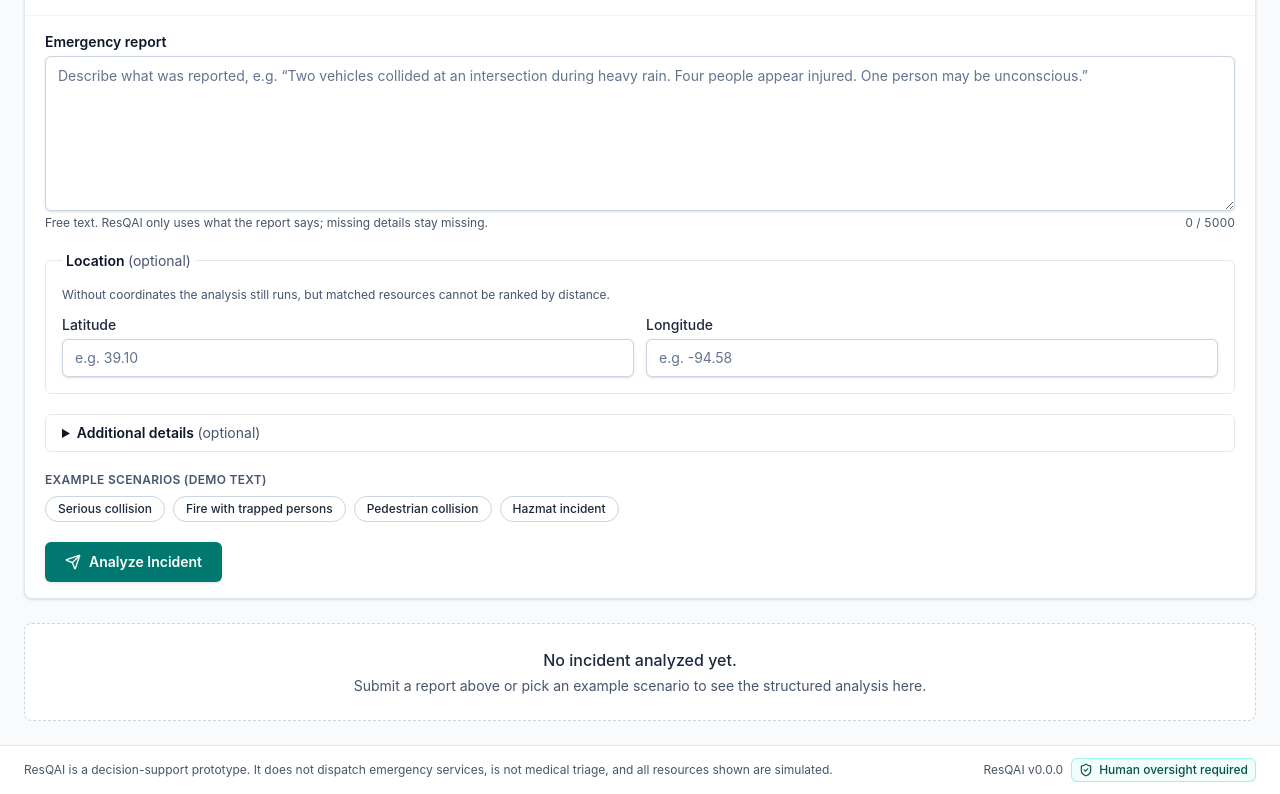
Analyze page › fills the form from an example scenario without analyzing it
This screenshot has width=1280, height=794.
(page scrolled)
What coordinates should you click on to do the following:
click the button "Pedestrian collision"
I would click on:
 (423, 508)
Its box is [354,496,492,522].
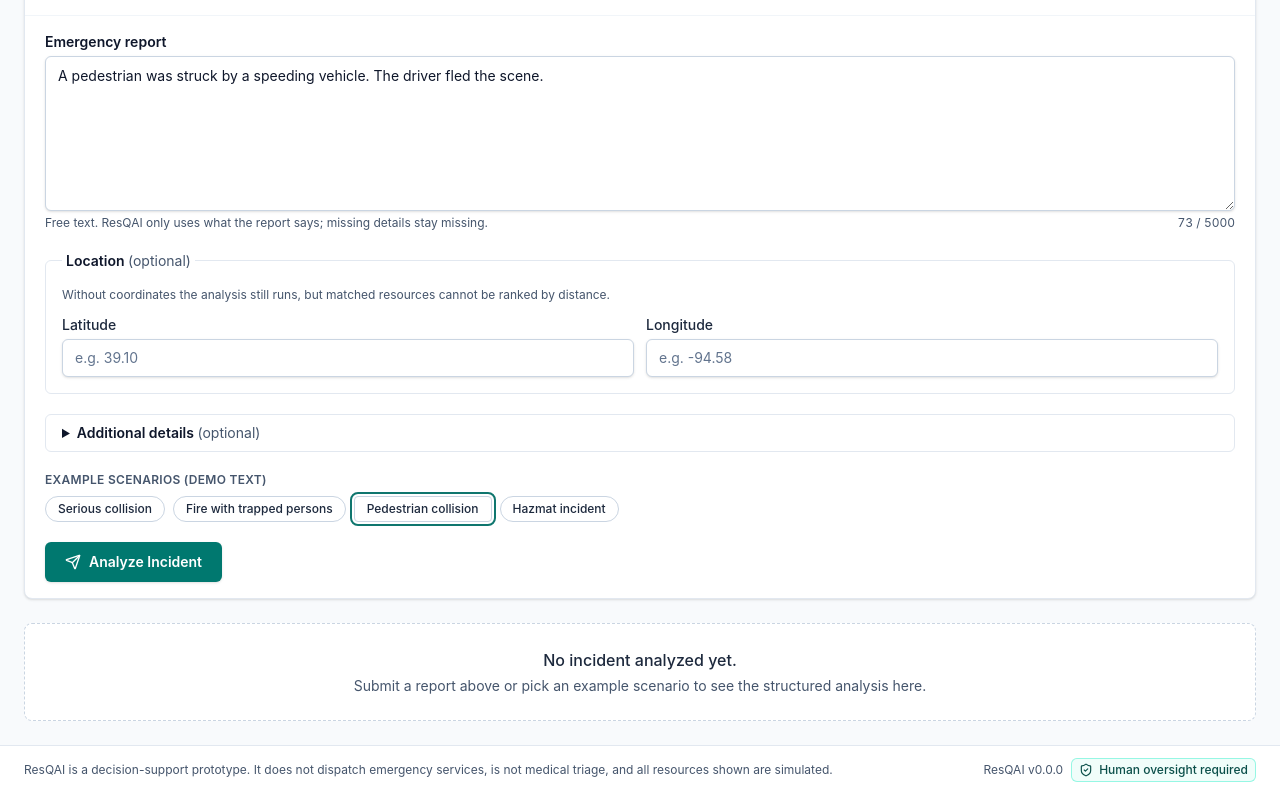
Expected: the text "Example scenarios (demo text)" is shown, [45,472,267,486]
Expected: the text box labelled "Emergency report" holds "A pedestrian was struck by a speeding vehicle. The driver fled the scene.", [45,56,1235,210]
